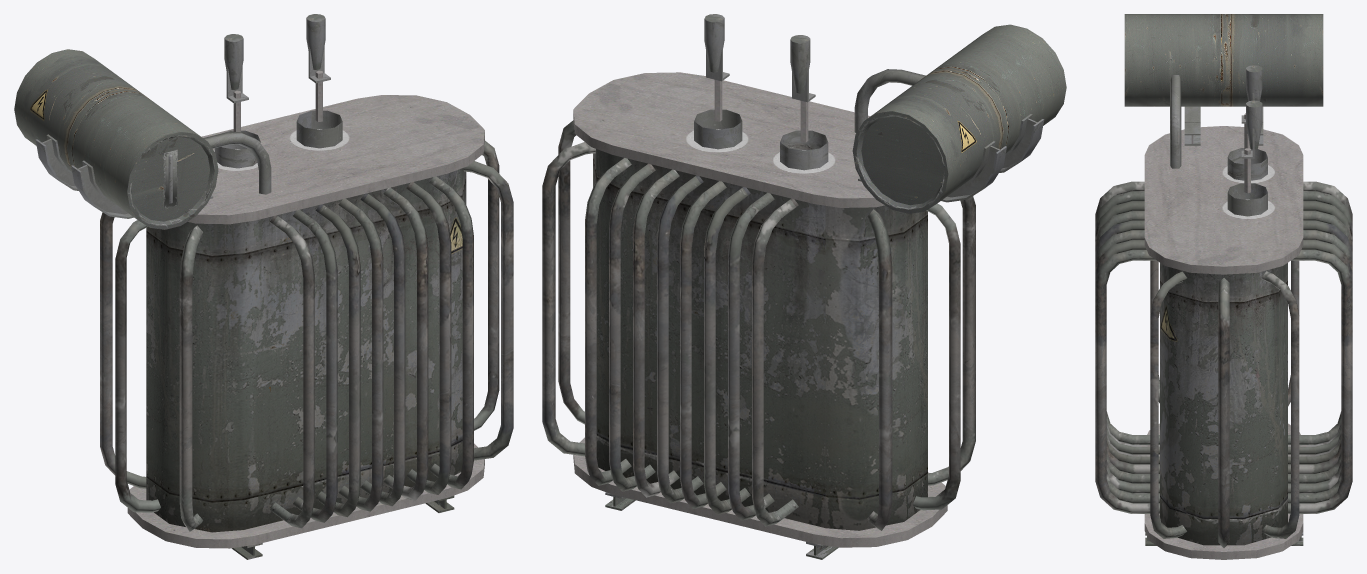
Rendered from SM_compensator.fbx.
3 renders of one model, left to right at view 1: azimuth 30°, elevation 25°; view 2: azimuth 150°, elevation 25°; view 3: azimuth 270°, elevation 25°, orthographic. The views are drawn at different scales.
Visible parts, largest first — view 1: SM_compensator; view 2: SM_compensator; view 3: SM_compensator.
Part boxes in pixels (bbox=[...]): SM_compensator: bbox=[14, 14, 513, 559]; SM_compensator: bbox=[542, 14, 1066, 559]; SM_compensator: bbox=[1095, 14, 1352, 559].
Bounding box in the file's own units: 394 × 226 × 397.
Materials: 1 (1 with a texture image).
